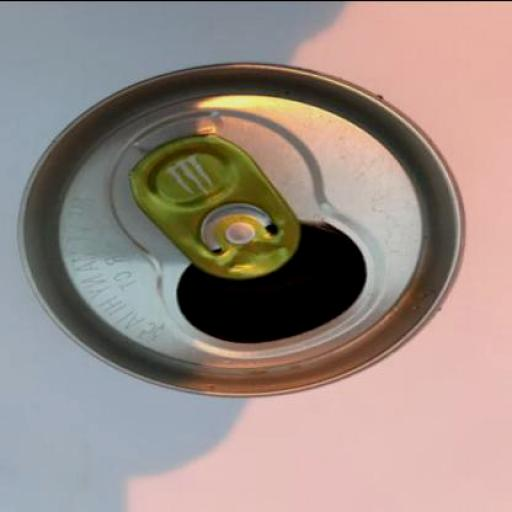metal: (22, 62, 468, 398)
